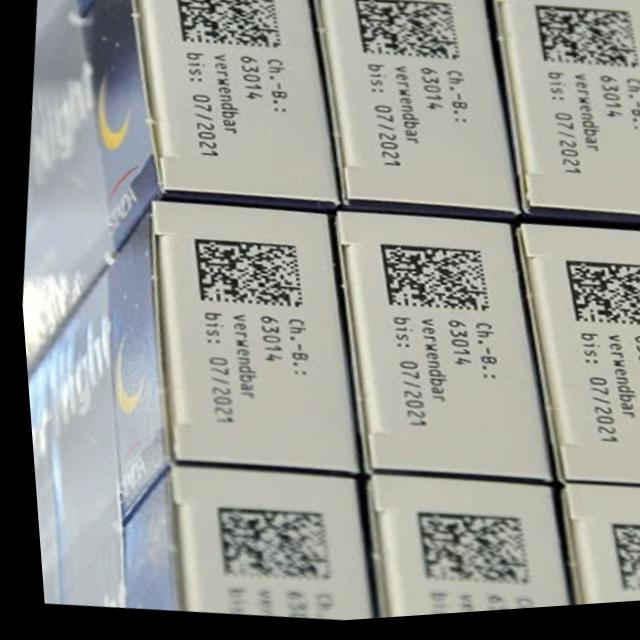datamatrix: (190, 494, 338, 601), (389, 503, 535, 608), (358, 234, 499, 332), (176, 230, 307, 324), (518, 1, 640, 92), (336, 1, 471, 78), (542, 253, 640, 346), (159, 1, 293, 65), (587, 523, 640, 608)
